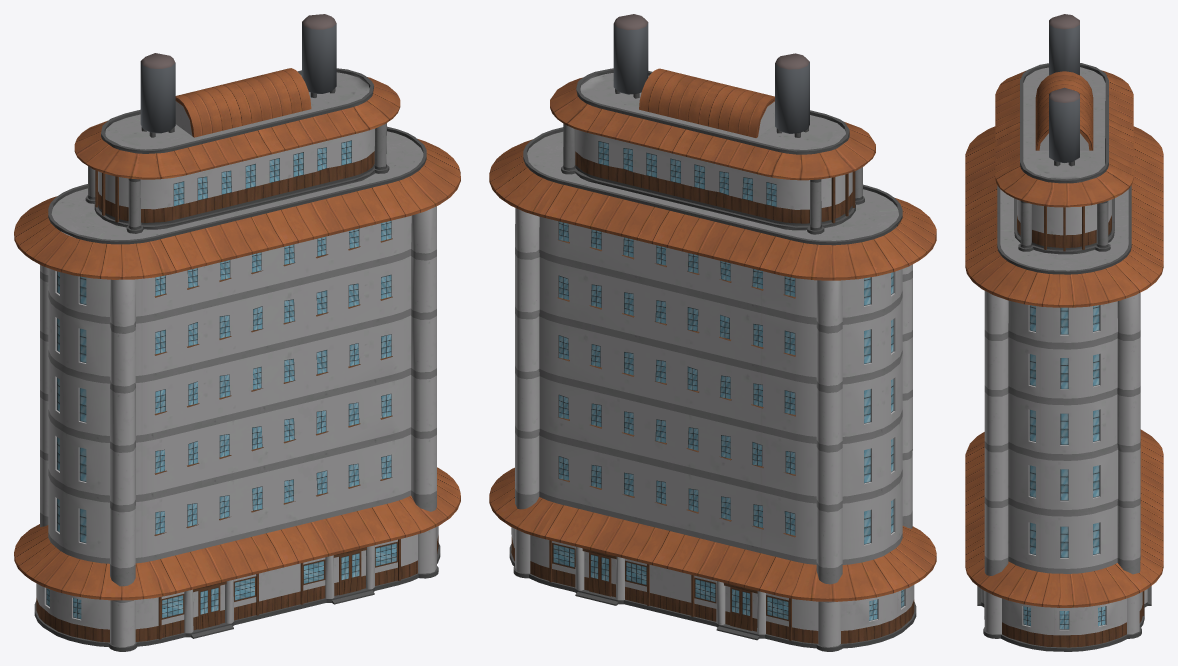
File: SM_ENV_LKNVLD_CommonBuilding_C.FBX
3 views of the same model, side by side, from view 1: azimuth 30°, elevation 25°; view 2: azimuth 150°, elevation 25°; view 3: azimuth 270°, elevation 25° (orthographic). The views are drawn at different scales.
Parts seen in each view (by area): view 1: SM_ENV_LKNVLD_CommonBuilding_C; view 2: SM_ENV_LKNVLD_CommonBuilding_C; view 3: SM_ENV_LKNVLD_CommonBuilding_C.
Boxes of the visible parts, x1,y1,x2,y2 form: SM_ENV_LKNVLD_CommonBuilding_C: [14, 14, 460, 651]; SM_ENV_LKNVLD_CommonBuilding_C: [489, 14, 936, 651]; SM_ENV_LKNVLD_CommonBuilding_C: [965, 14, 1163, 651].
Bounding box in the file's own units: 4420 × 5481 × 1939.
